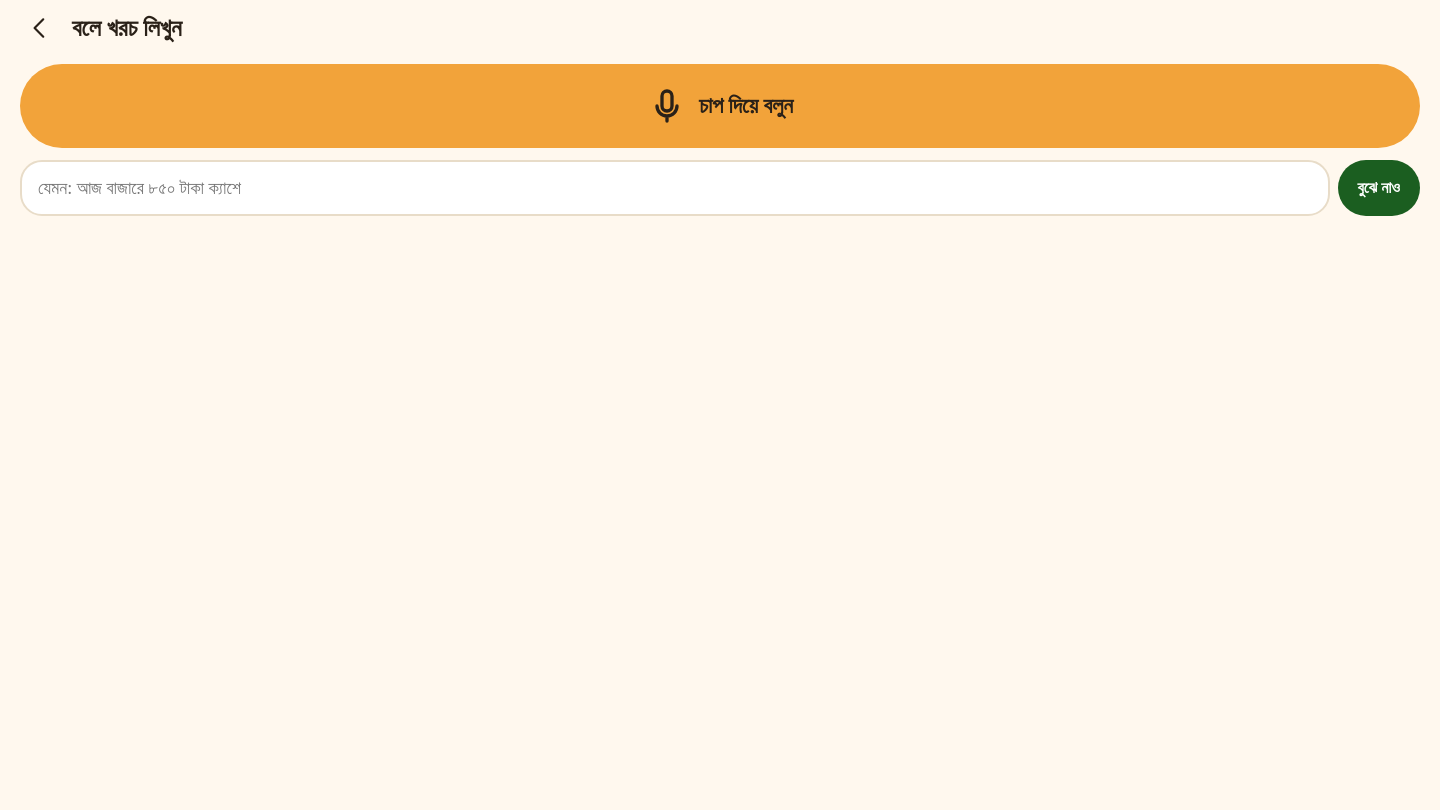
voice entry page › fake recognition reads back 850 and saving goes home
This screenshot has width=1440, height=810.
Click the button "চাপ দিয়ে বলুন".
click(720, 106)  # box [20,64,1420,148]
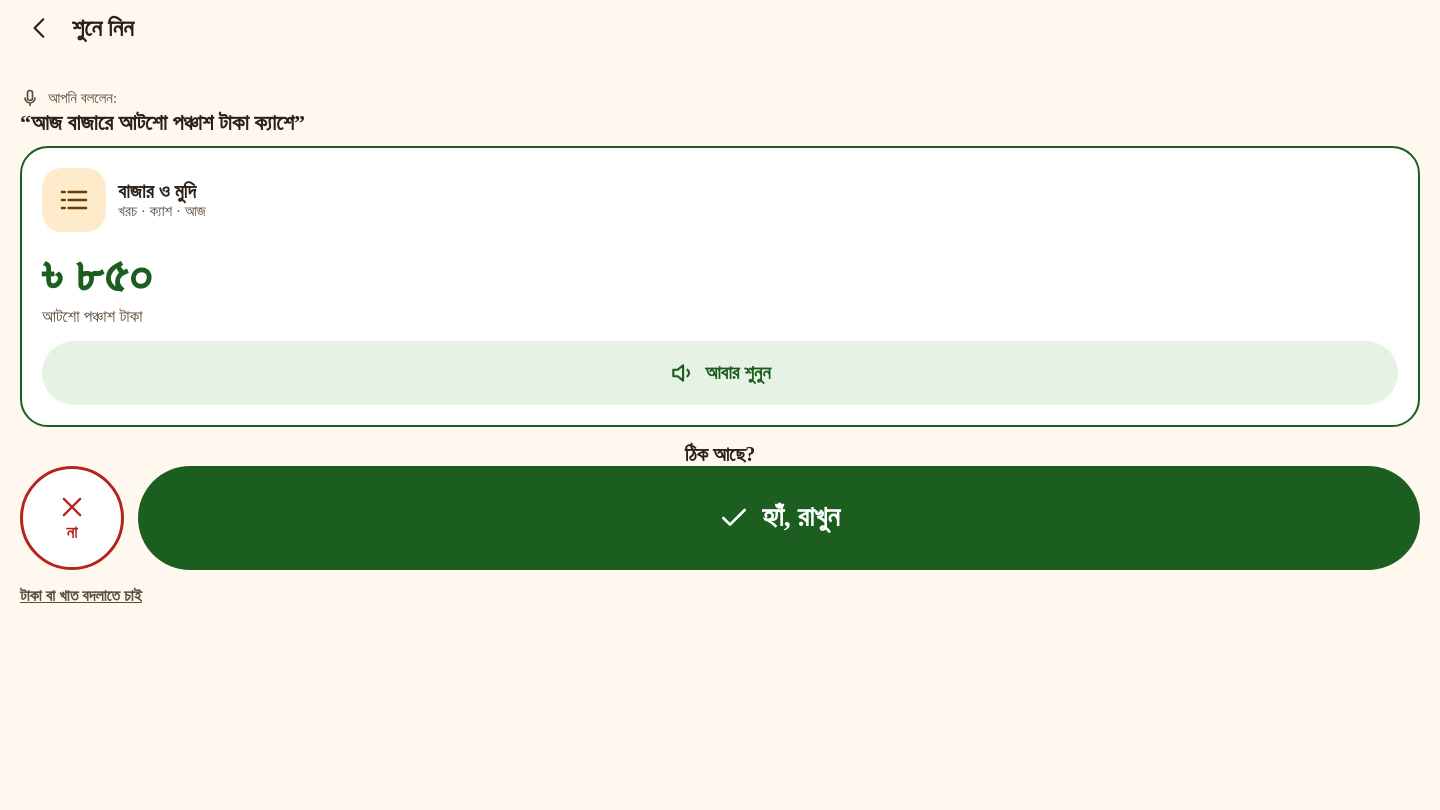
Now the text "৳ ৮৫০" is shown, box [42,246,152,303]
Click the button "হ্যাঁ, রাখুন".
click(779, 518)  # box [138,466,1420,570]
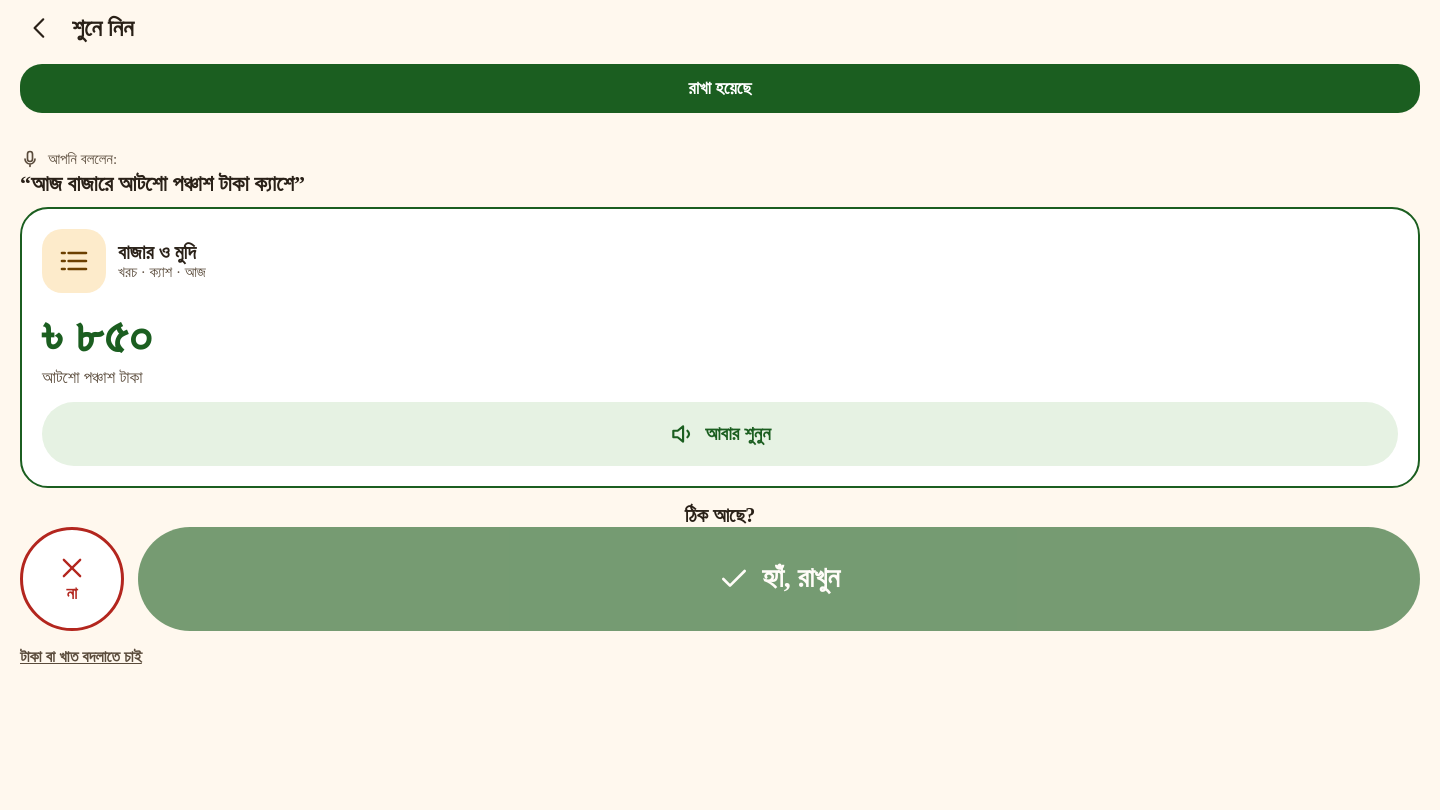
Now the text "রাখা হয়েছে" is shown, box [20,64,1420,113]
